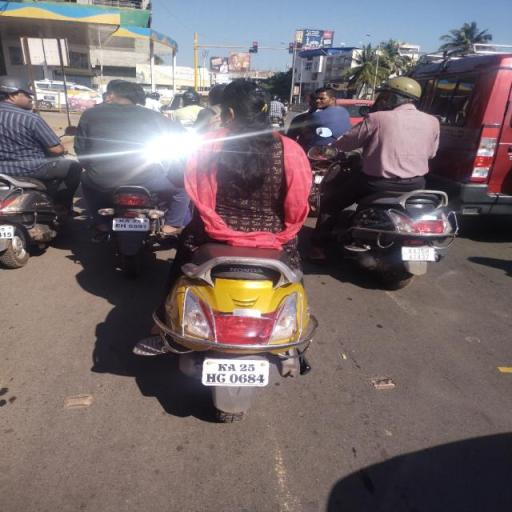bike: (153, 70, 330, 424)
numberplate: (204, 358, 270, 388)
withouthelmet: (222, 80, 273, 130)
